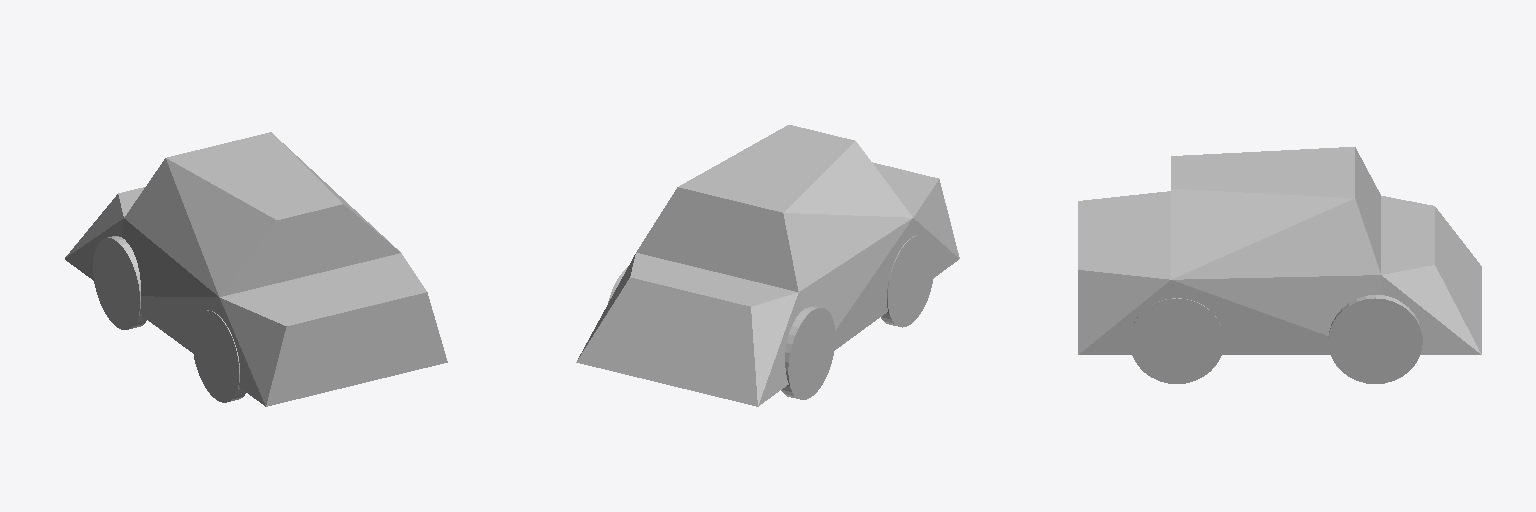
The model's file is demo_car.obj.
3 views of the same model, side by side, from view 1: azimuth 30°, elevation 25°; view 2: azimuth 150°, elevation 25°; view 3: azimuth 270°, elevation 25° (orthographic).
Parts seen in each view (by area): view 1: Cube; view 2: Cube; view 3: Cube.
Boxes of the visible parts, x1=… form: Cube: x1=65, y1=132, x2=447, y2=406; Cube: x1=576, y1=125, x2=959, y2=406; Cube: x1=1078, y1=147, x2=1481, y2=383.
Bounding box in the file's own units: 2.13 × 1.86 × 4.07.